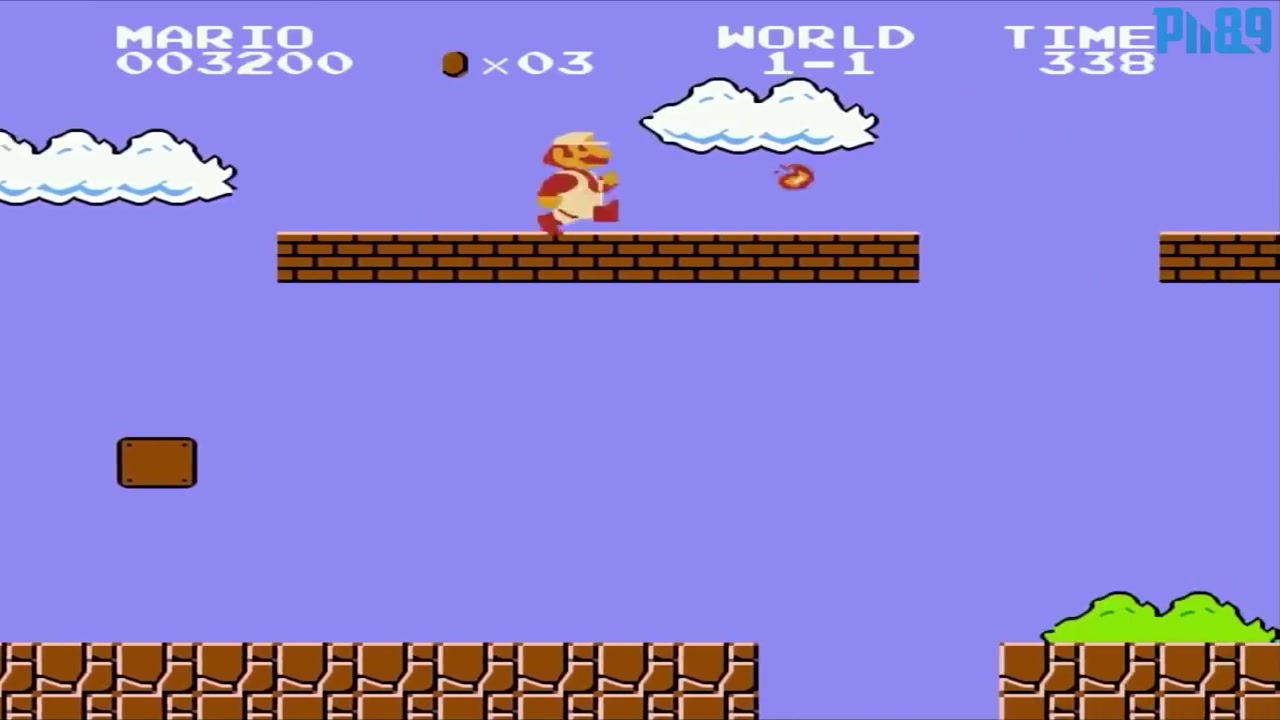mario: (528, 125, 628, 235)
